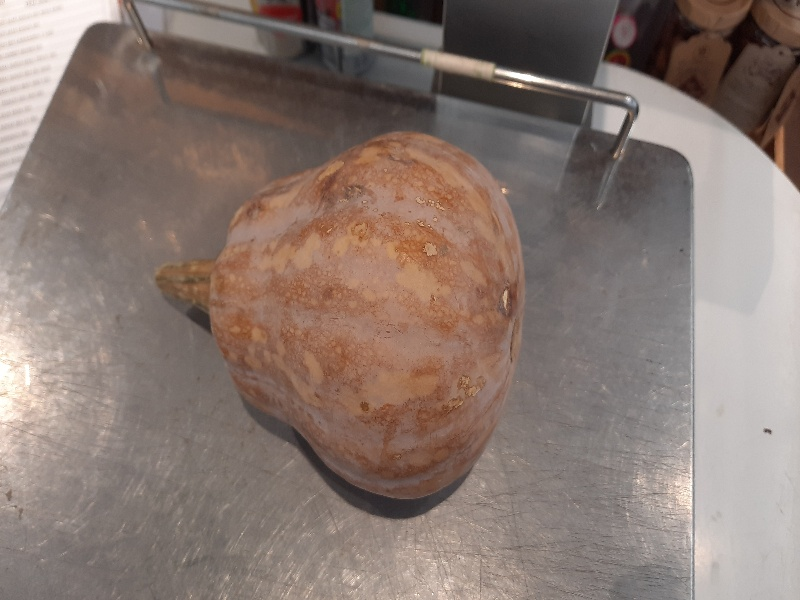vege: (153, 126, 527, 503)
